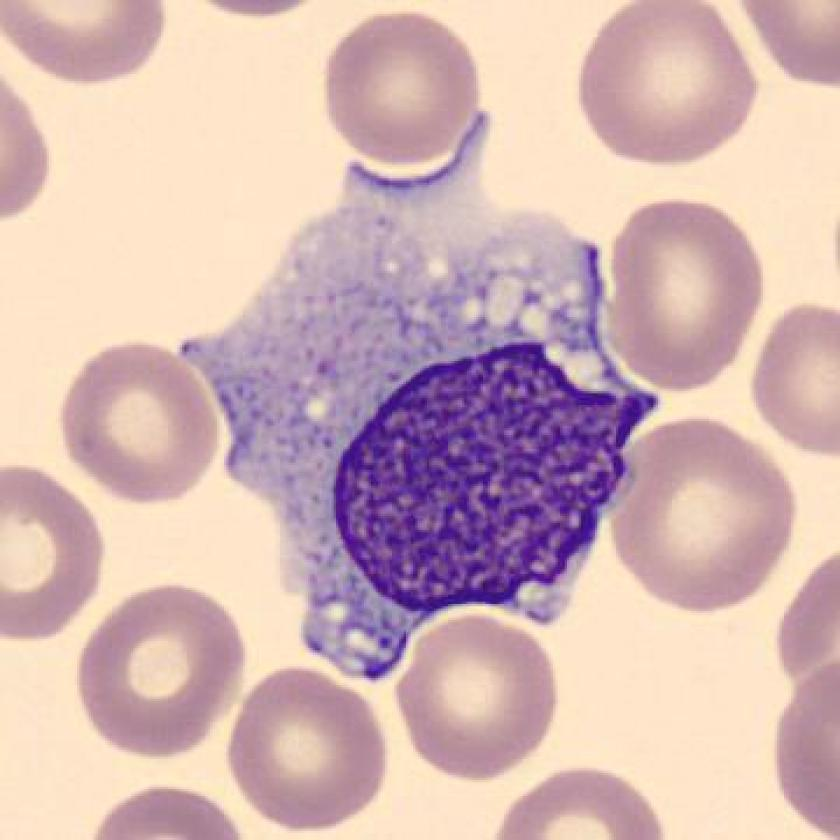monocyte: (165, 101, 683, 695)
